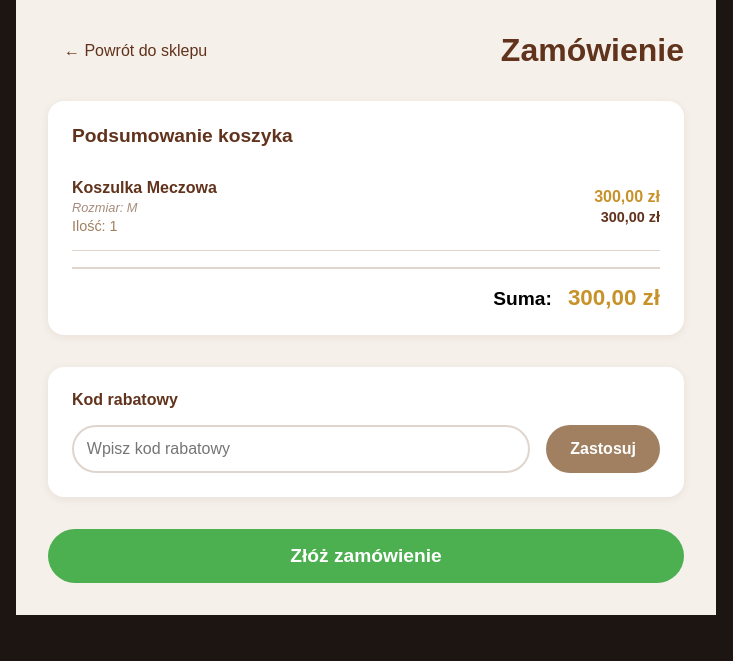
Order Component › should show error when order fails
The image size is (733, 661).
Click the button "Złóż zamówienie": (366, 556) [48, 529, 684, 583]
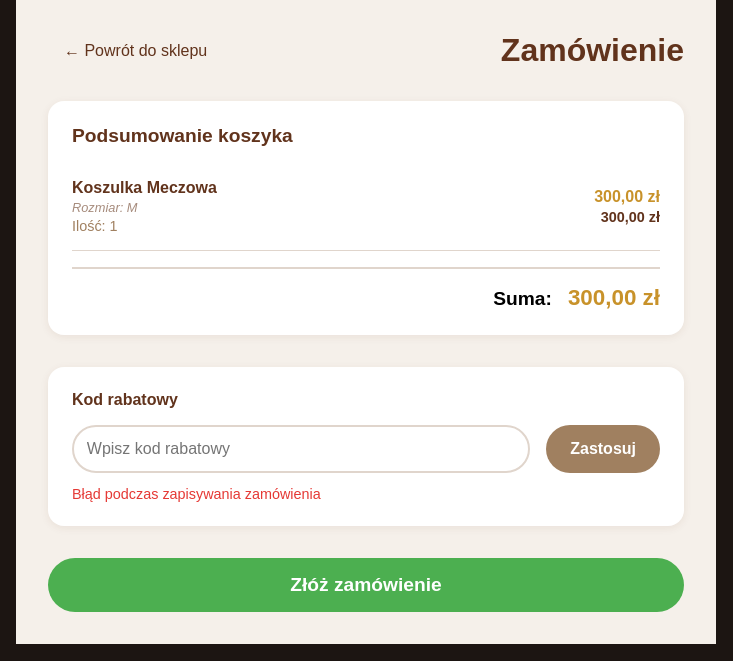
Expected: the text "Błąd podczas zapisywania zamówienia" is shown, [72, 486, 321, 502]
